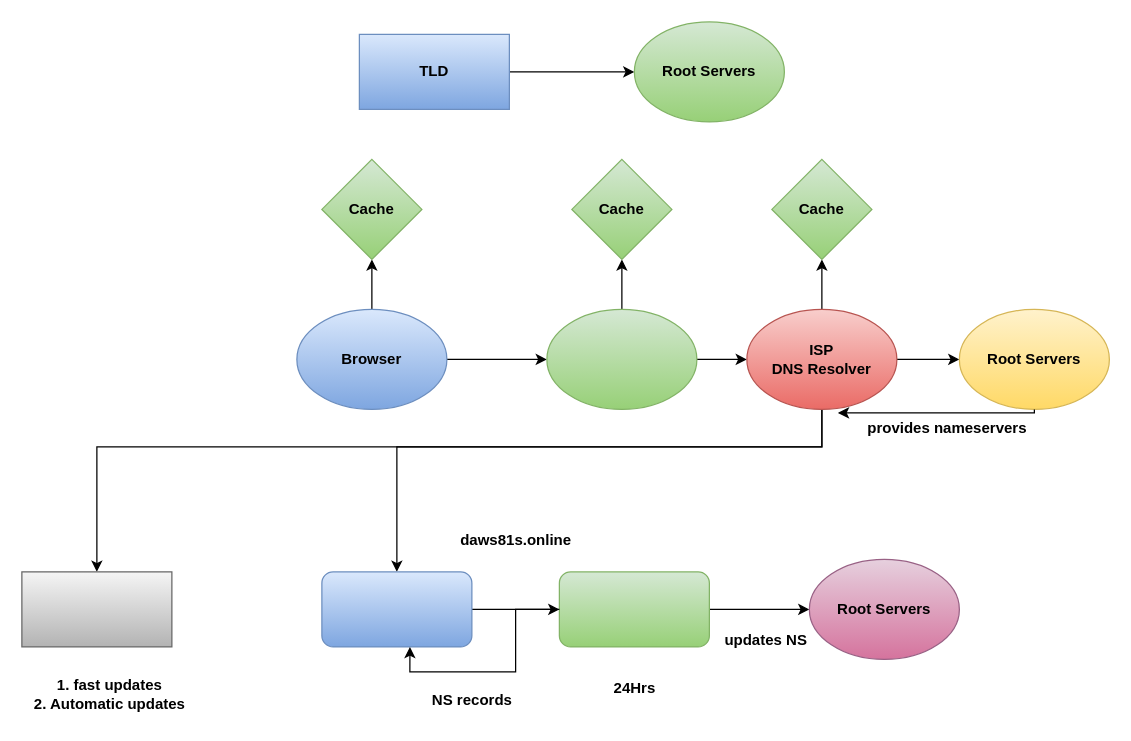
Image size: 1131x741. Some labels were removed from this diagram. Each missing label, with the centre of its shape:
".online TLD" belongs at (633,609).
"AWS" belongs at (96,609).
"Hostinger" belongs at (396,609).
"OS" belongs at (621,358).
